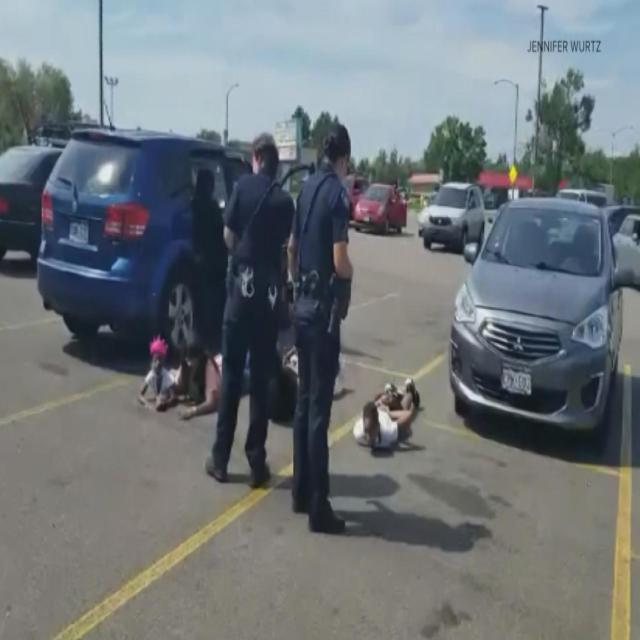police: (257, 119, 364, 555), (198, 123, 292, 500)
